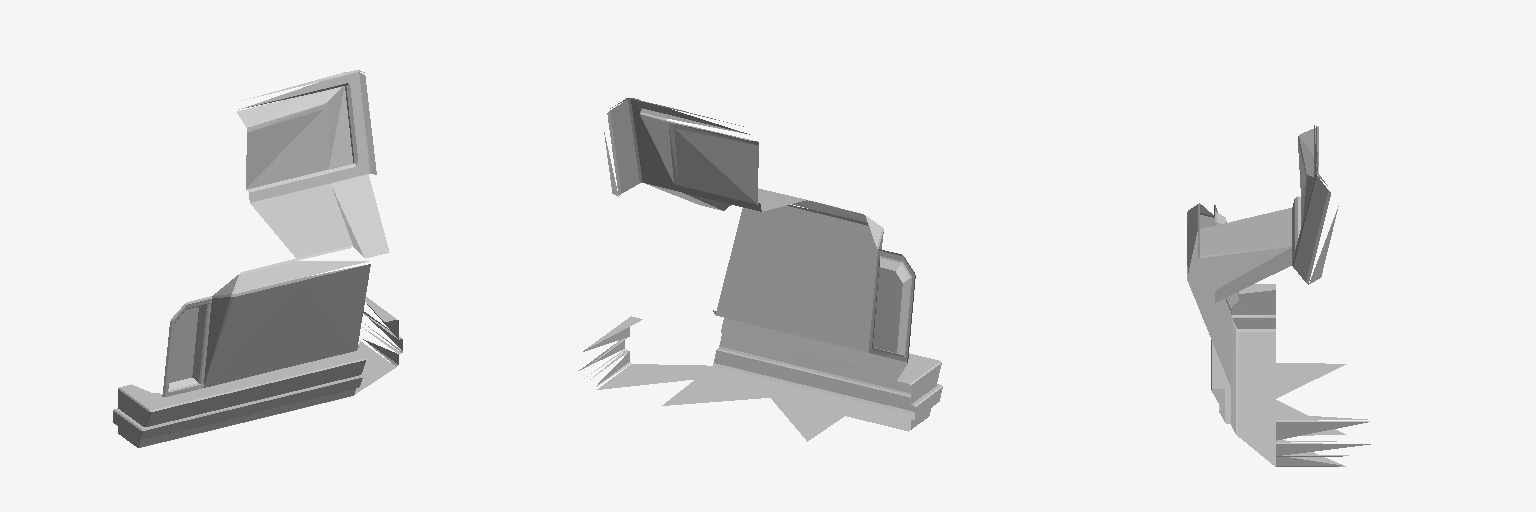
File: shard6.obj
3 views of the same model, side by side, from view 1: azimuth 30°, elevation 25°; view 2: azimuth 150°, elevation 25°; view 3: azimuth 270°, elevation 25° (orthographic).
Visible parts, largest first — view 1: defaultMaterial.004; view 2: defaultMaterial.004; view 3: defaultMaterial.004.
Boxes of the visible parts, box(x1,y1,x2,y2) form: defaultMaterial.004: box(113, 70, 402, 447); defaultMaterial.004: box(579, 98, 942, 441); defaultMaterial.004: box(1187, 125, 1370, 466).
Size of the model in its own units: 11.6 by 10.94 by 6.44.